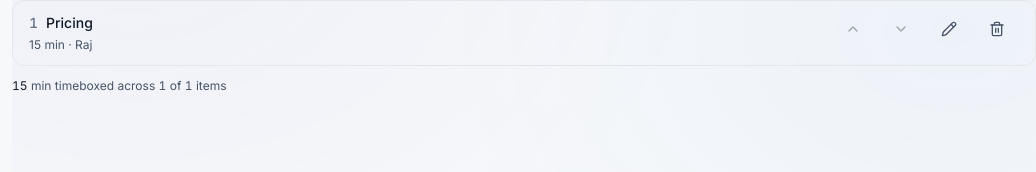
Test: a save that changes nothing sends nothing
Click the button named "Edit \"Pricing\"".
click(949, 29)  # box top-left (927, 13), bottom-right (971, 45)
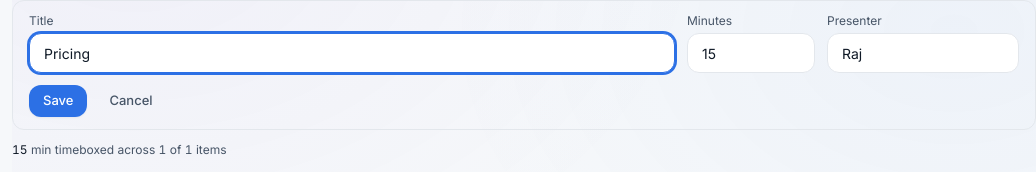
Click the button "Save".
click(58, 101)  # box top-left (29, 85), bottom-right (88, 117)
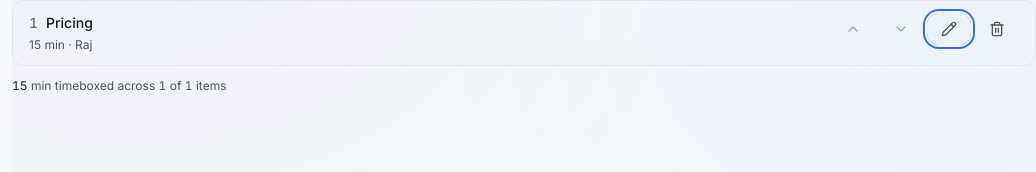
Now the button named "Edit \"Pricing\"" is shown, box top-left (927, 13), bottom-right (971, 45)
